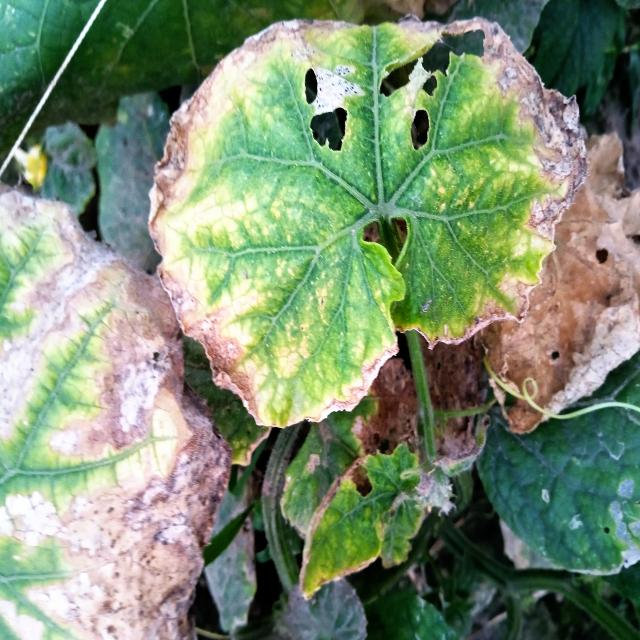Gummy-Stem-Blight: (0, 183, 236, 637), (146, 15, 338, 432), (391, 14, 591, 254)
